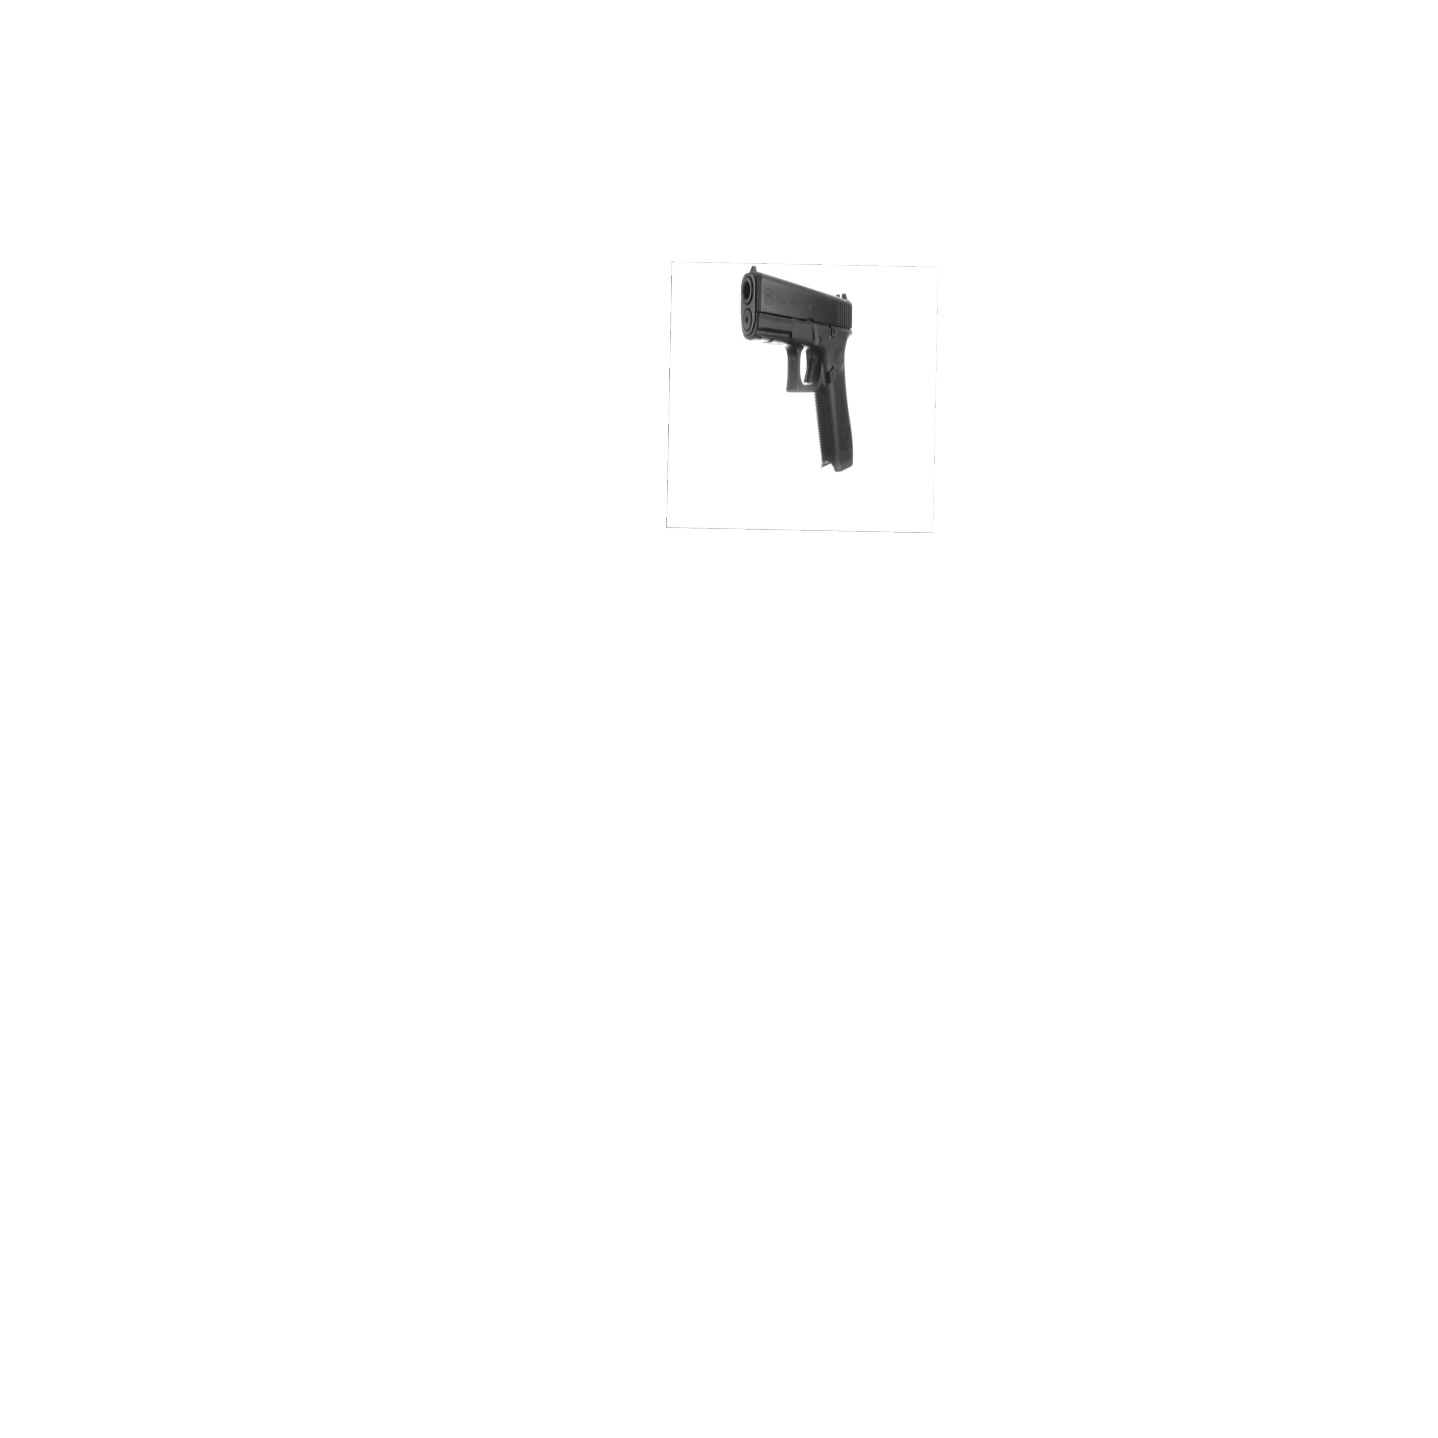gun: (739, 263, 857, 471)
